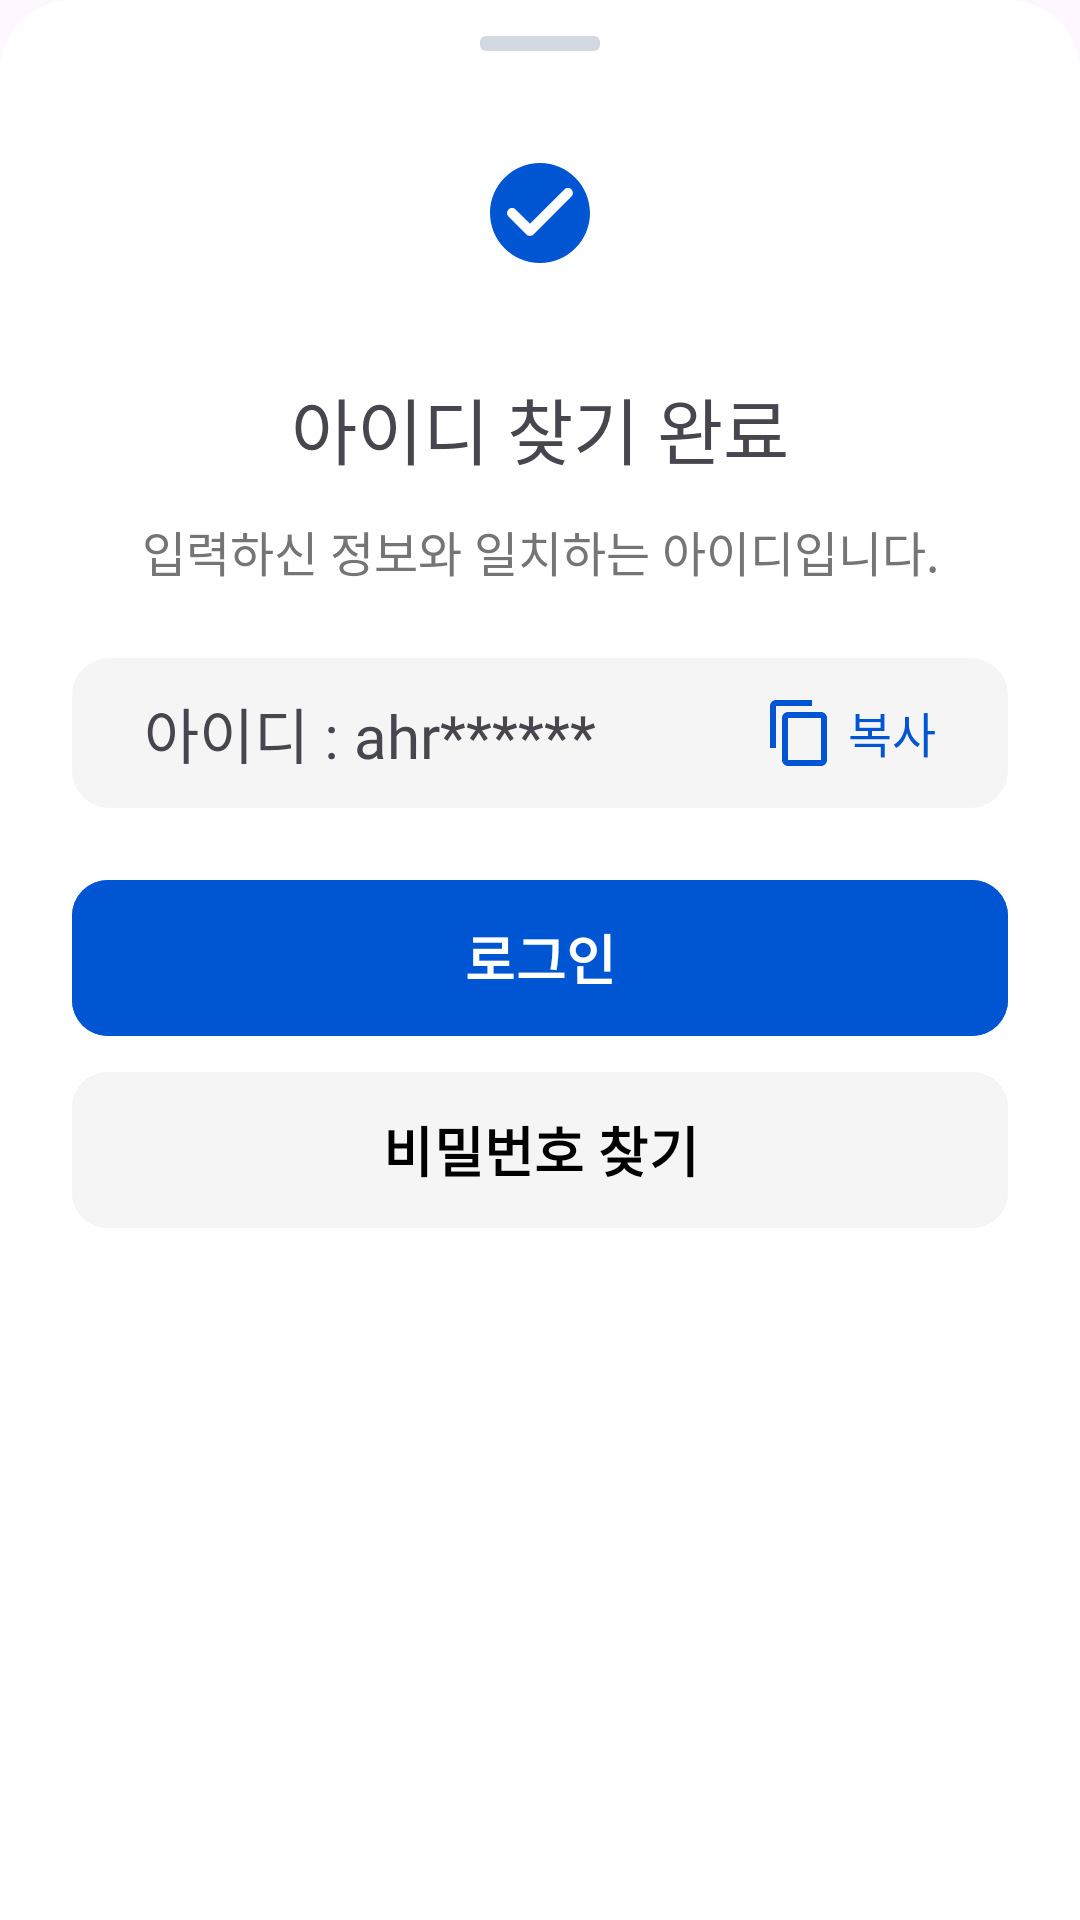

Screen size 1080x1920. Icon name, then its center in pixels as [x,y]:
check circle: [540,213]
